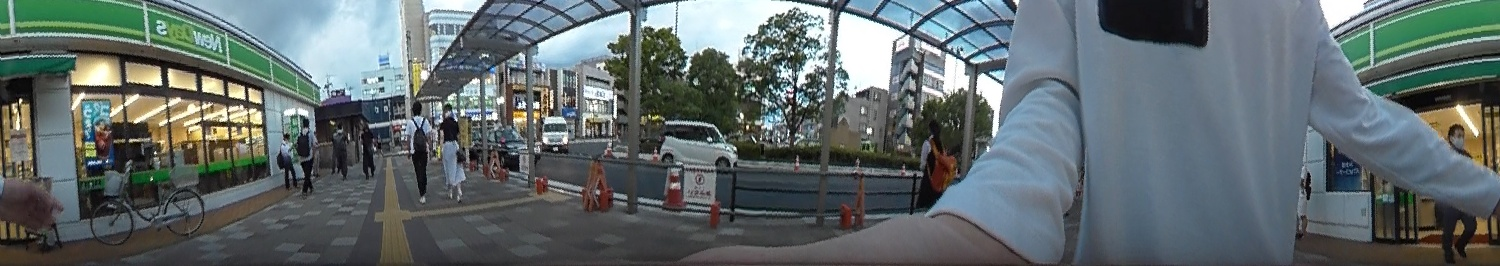difficult_person: (273, 130, 296, 186)
person: (1437, 114, 1480, 266), (909, 113, 963, 224), (399, 99, 436, 205), (437, 100, 467, 201), (291, 116, 320, 196), (358, 120, 378, 178), (331, 121, 349, 178)
